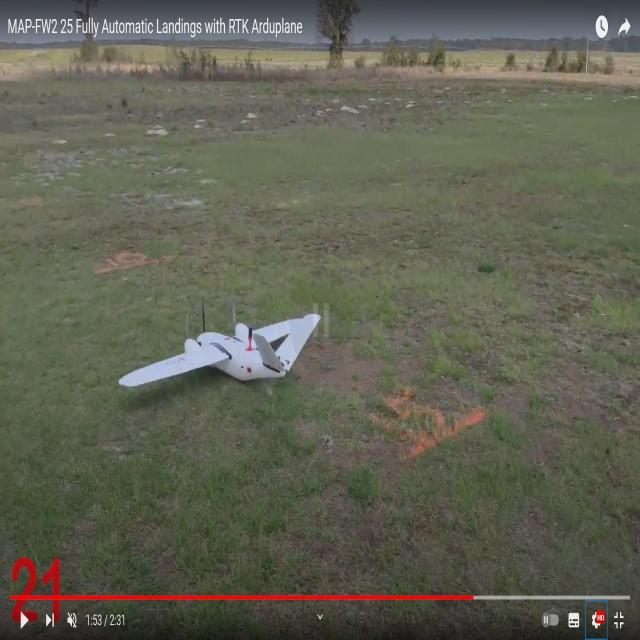iha: (120, 343, 316, 384)
